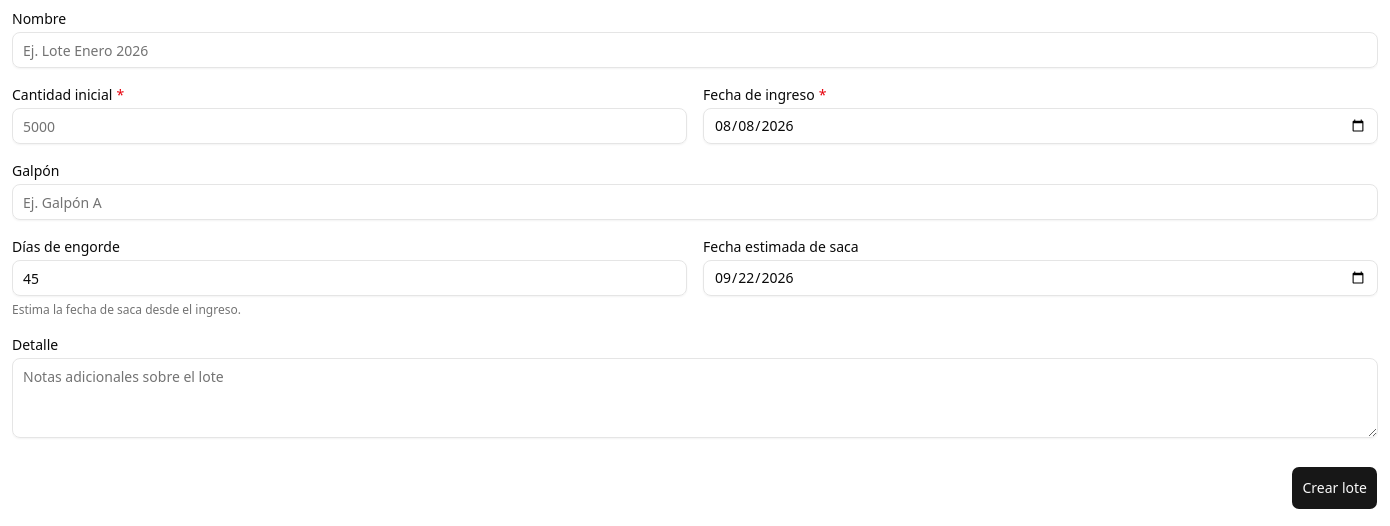
LoteForm — modo crear › recalcula la fecha estimada de saca al cambiar la fecha de ingreso
The width and height of the screenshot is (1390, 526).
Type "2026-06-01" into the date field labelled "Fecha de ingreso *" at {"x": 1040, "y": 126}, box [703, 108, 1378, 144]
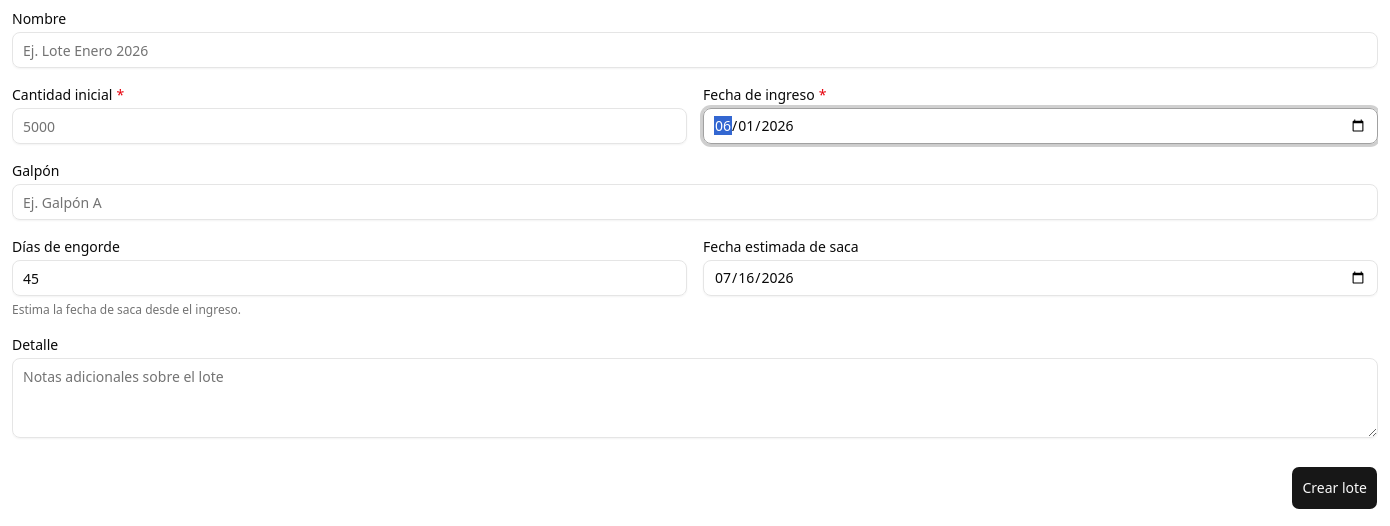
Now the date field labelled "Fecha estimada de saca" holds "2026-07-16", box [703, 260, 1378, 296]
